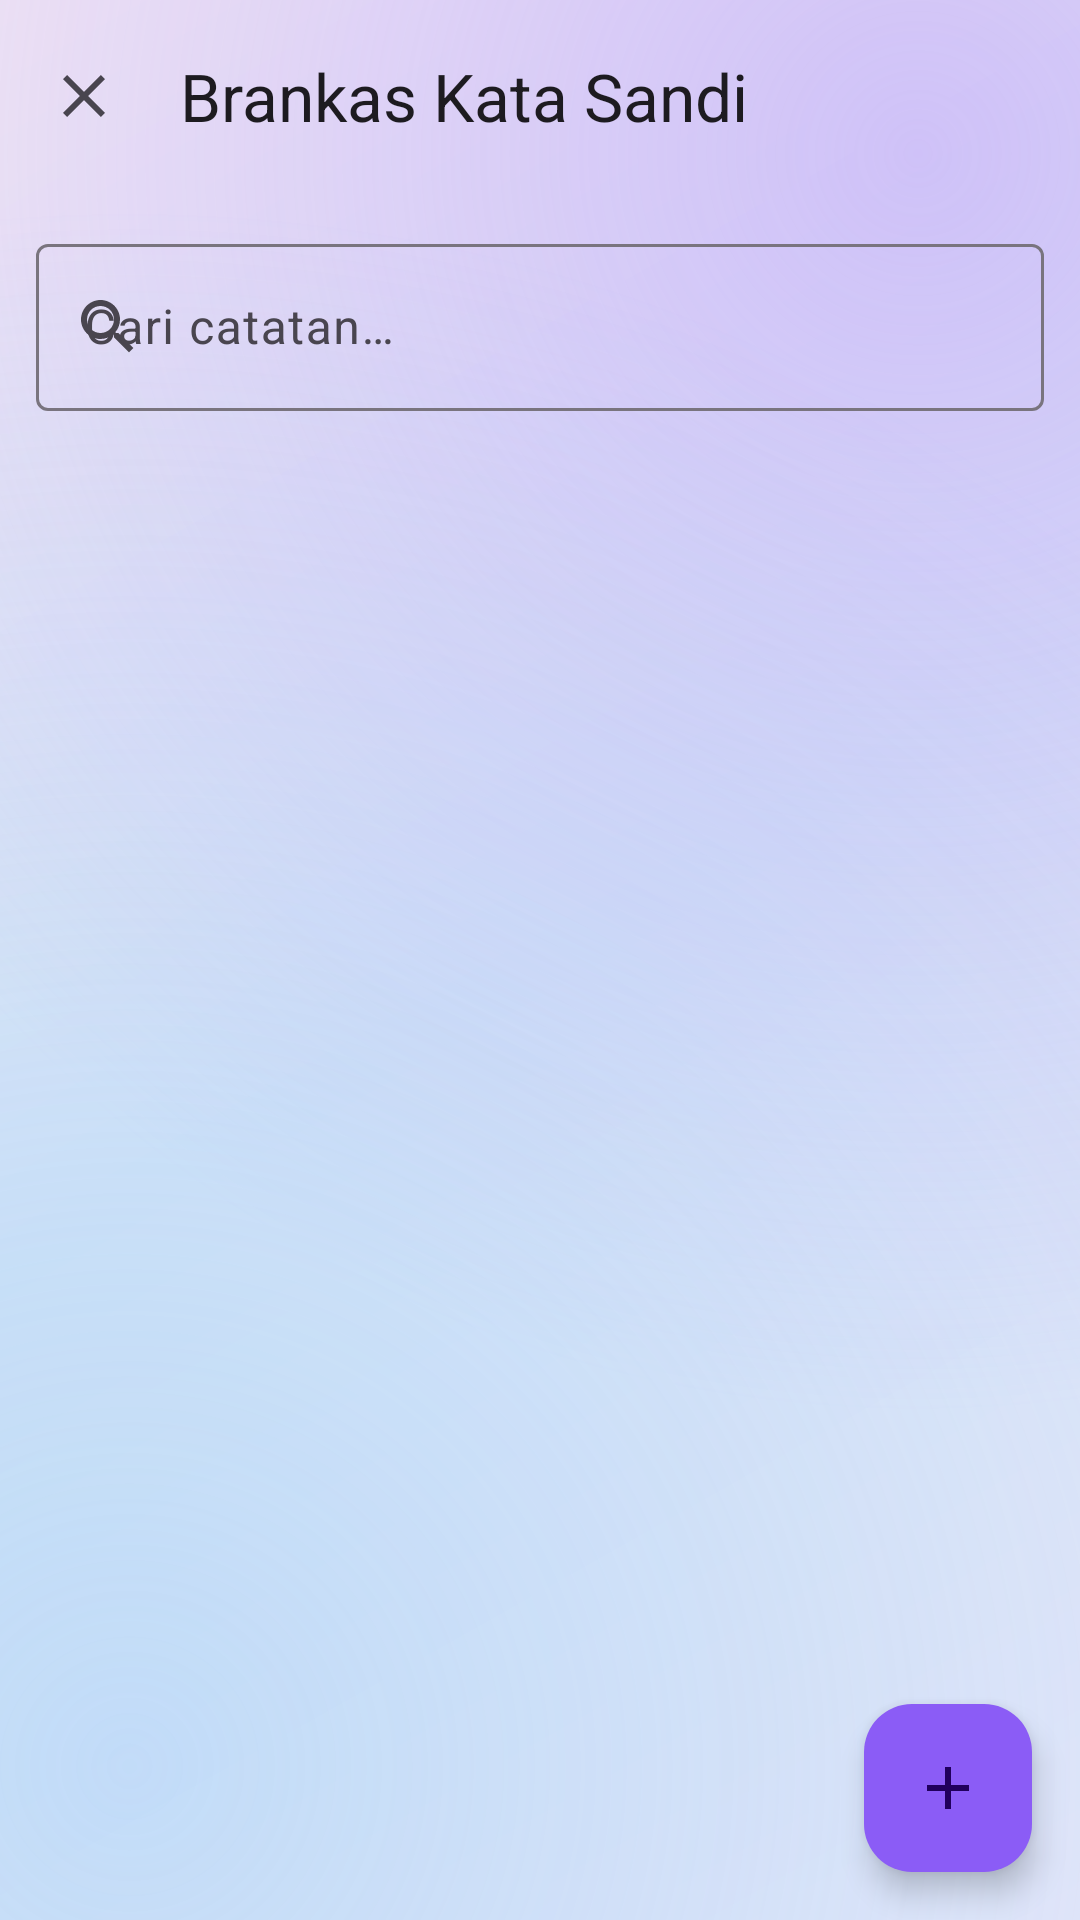

Where to tap for icons on this 1080 × 1920 app screen, as (x=x, y=y):
Tambah: (x=948, y=1788)
